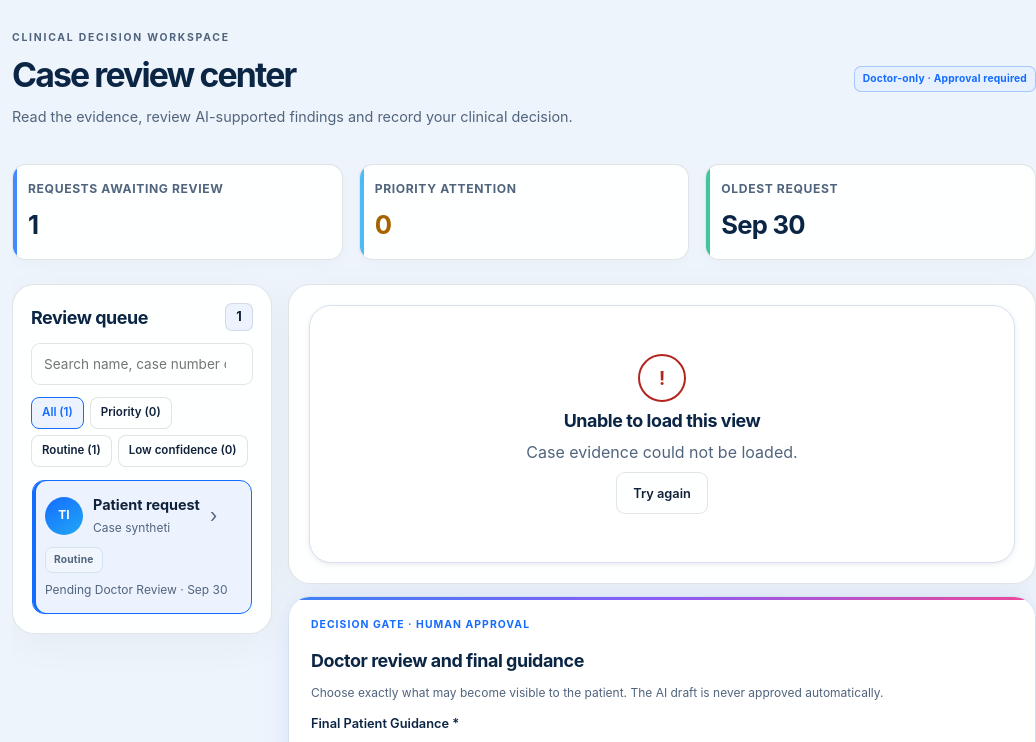
Test: ApprovalsPage › shows a retryable error when selected case evidence fails to load
Expected: the text "Case evidence could not be loaded." is shown, [526, 440, 798, 464]
Click the button "Try again". click: (662, 493)
box: [616, 472, 708, 514]
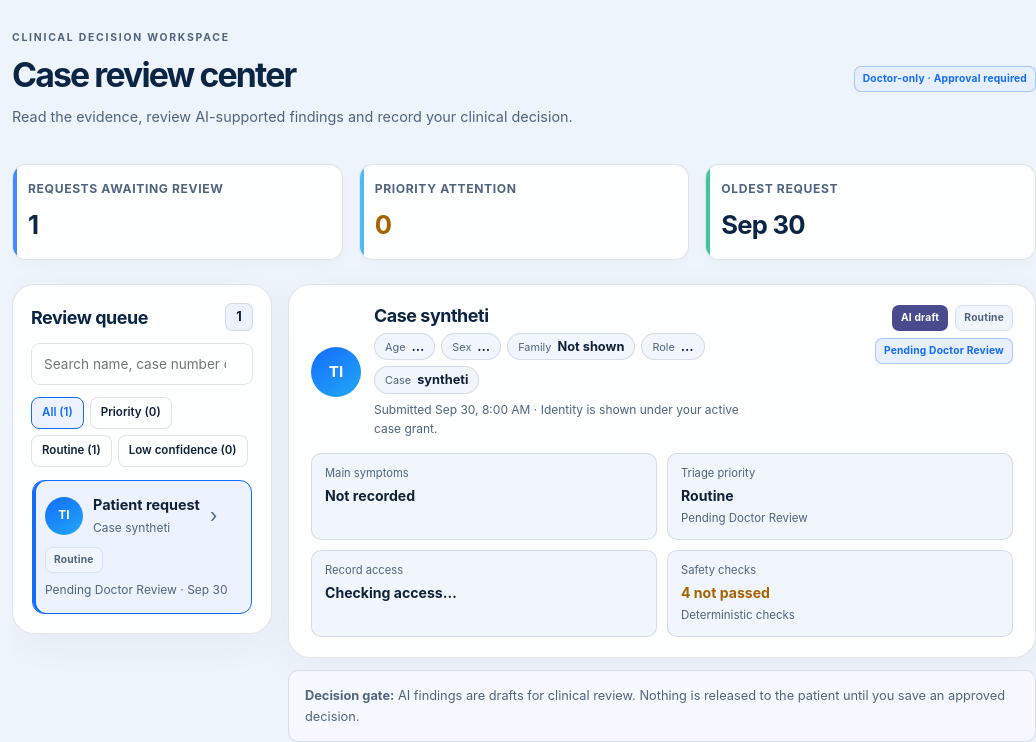
Result: the heading named "review case synthetic-case-01" is shown at [374, 306, 488, 326]
